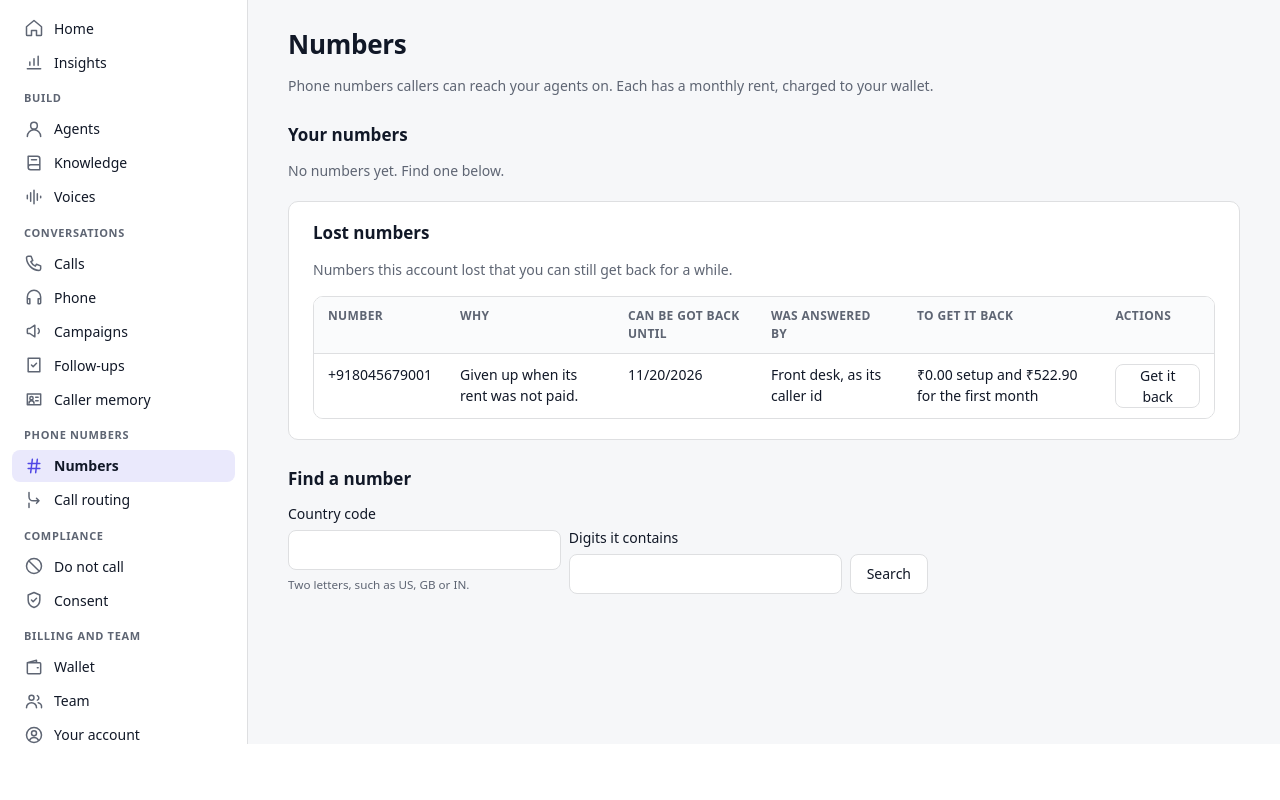
lost numbers › gets one back only after a confirm that shows the cost; back at once: says so, and reads the numbers and the lost numbers again
Expected: the table named "Lost numbers" is shown, [314,297,1214,418]
Click the button "Get it back" at point(1158, 386), box [1116,364,1200,408]
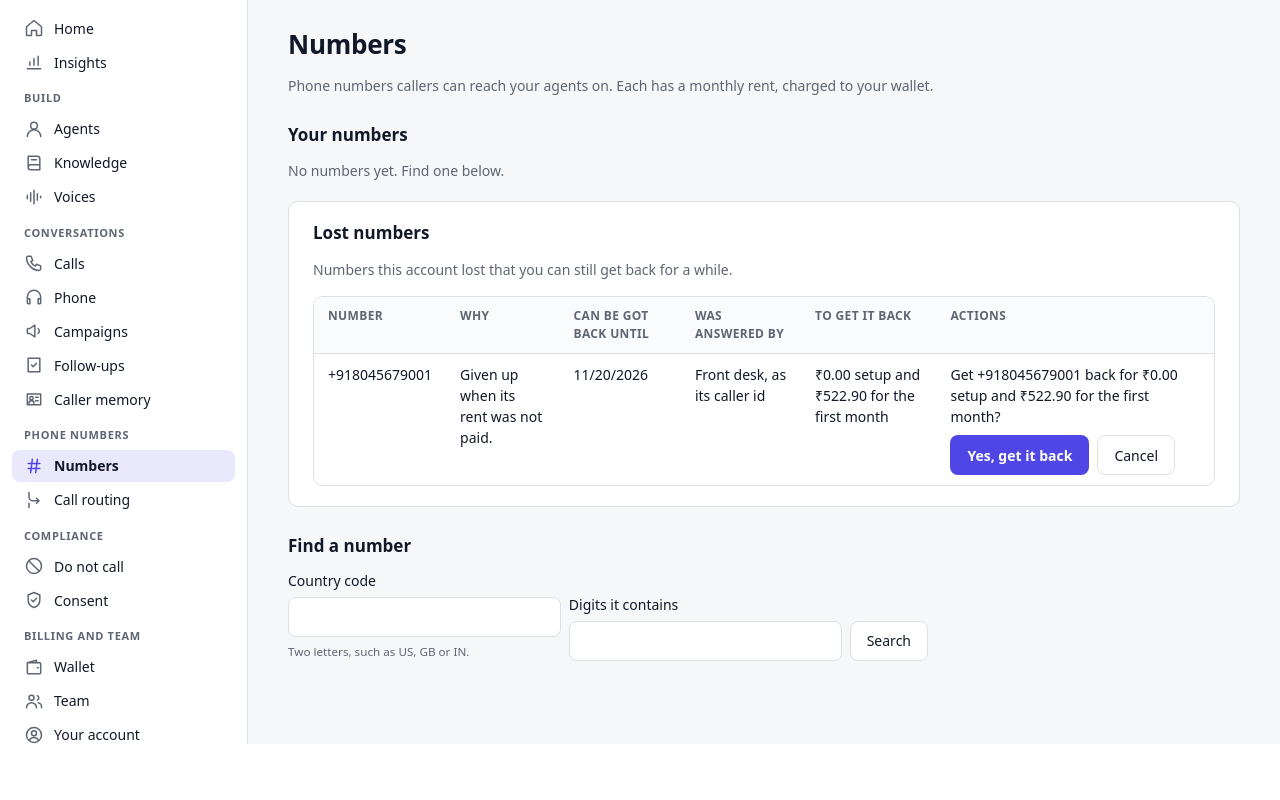
Now the text "Get +918045679001 back for ₹0.00 setup and ₹522.90 for the first month?" is shown, box [950,364,1200,427]
Click the button "Cancel" at point(1136, 455), box [1097,435,1175,475]
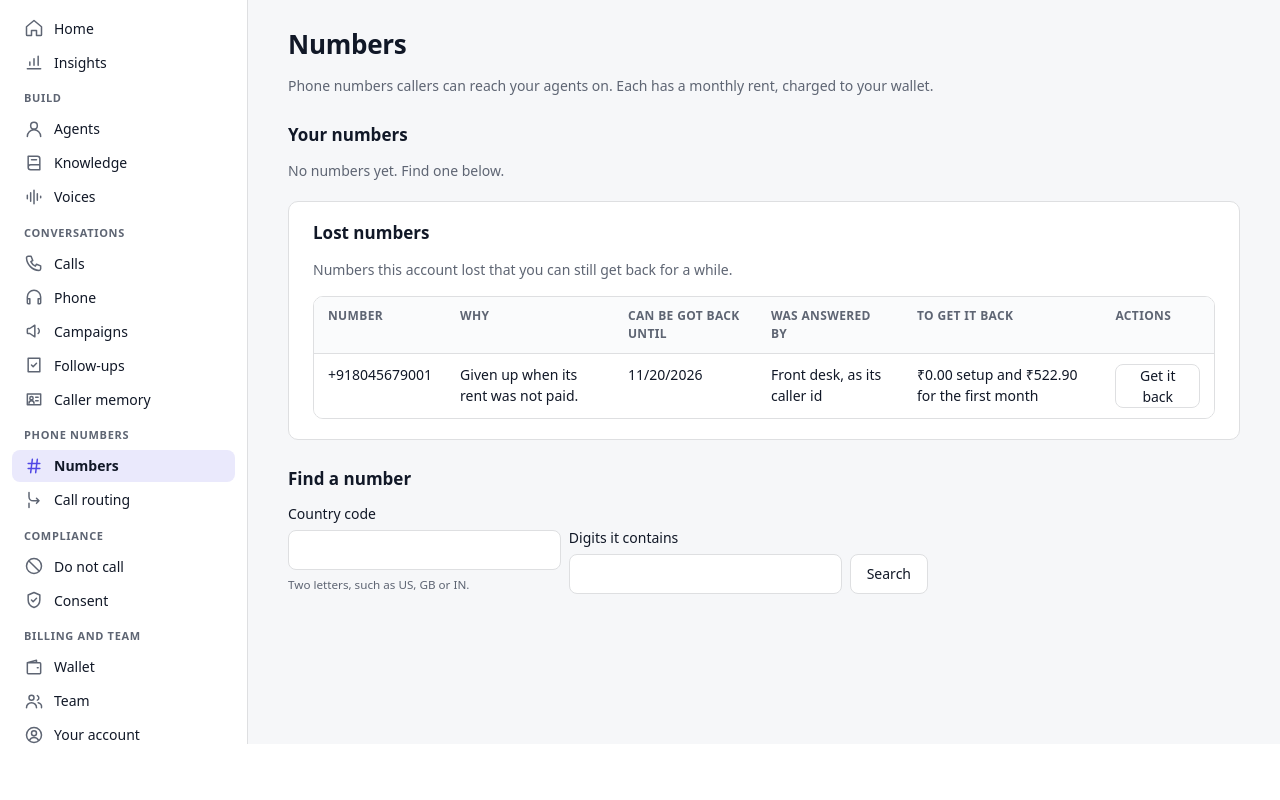
Now the text "Get +918045679001 back" is gone
Click the button "Get it back" at point(1158, 386), box [1116,364,1200,408]
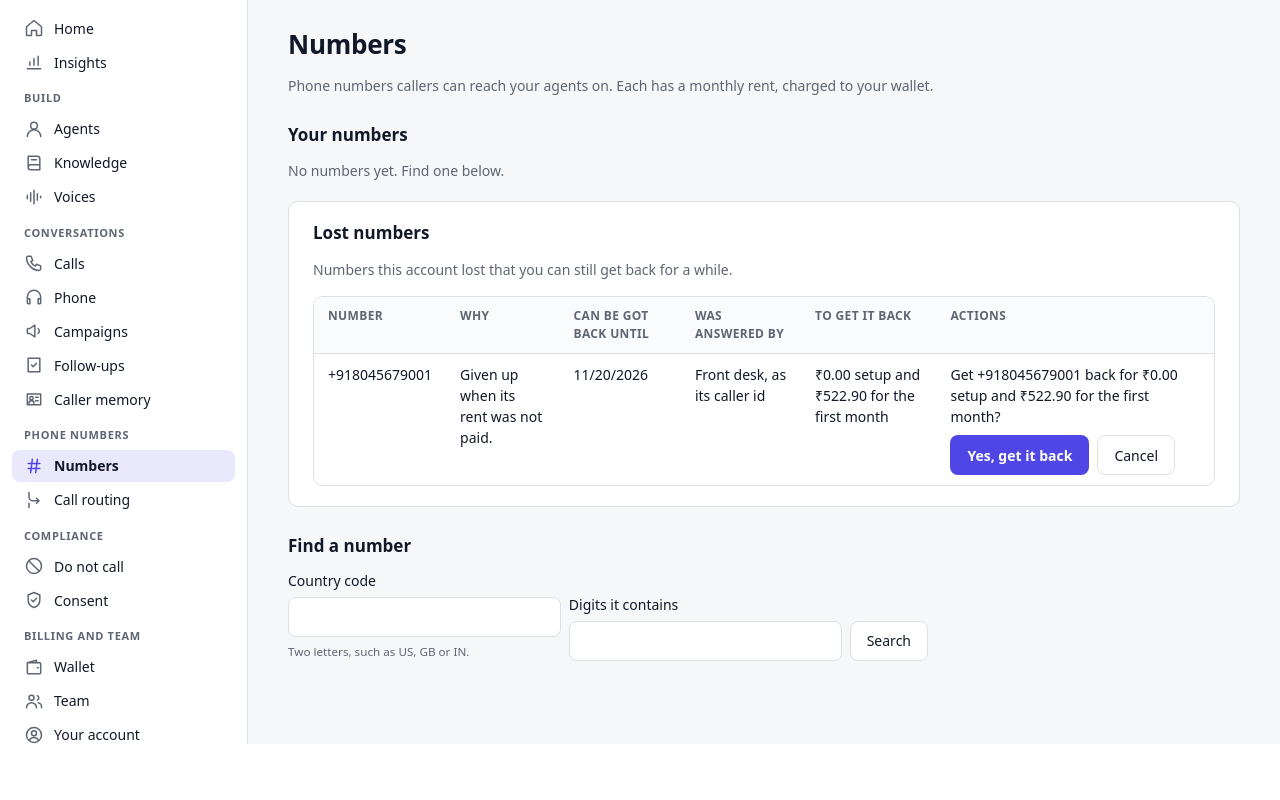
Click the button "Yes, get it back" at point(1020, 455), box [950,435,1089,475]
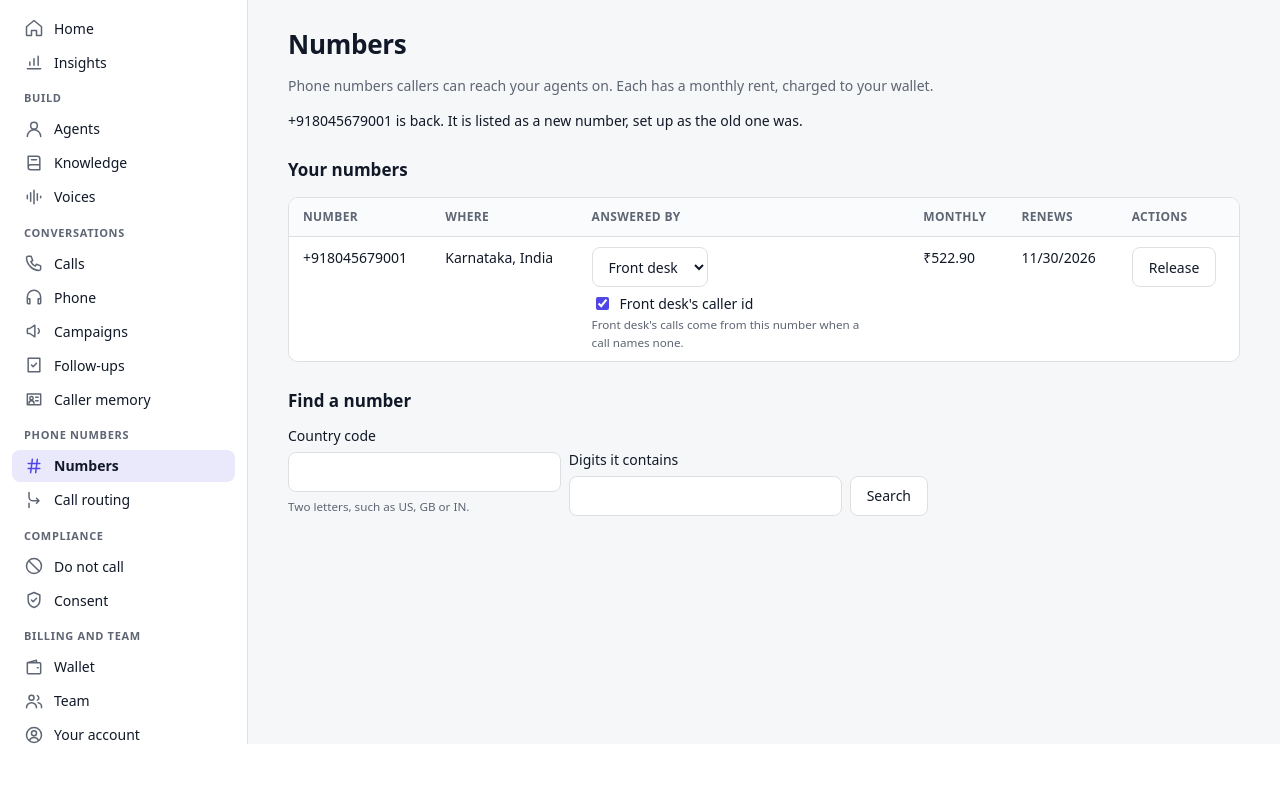
Now the message reads "+918045679001 is back. It is listed as a new number, set up as the old one was.", box [288,110,803,130]
Now the heading "Lost numbers" is gone
